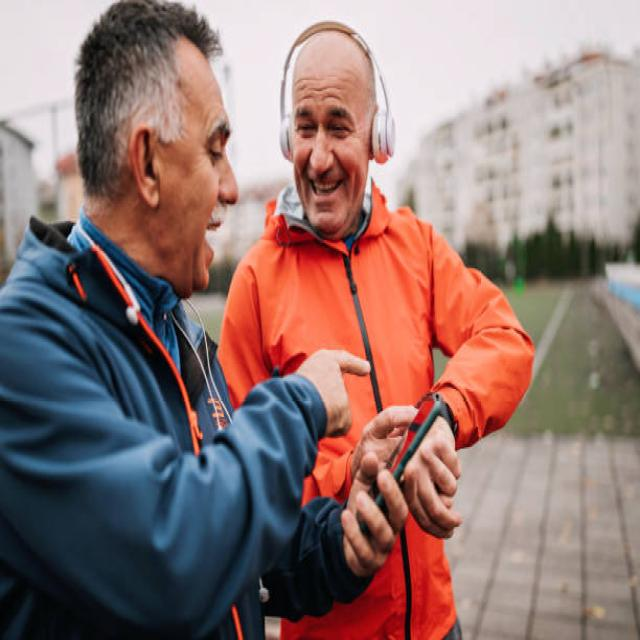Headphone: (278, 15, 397, 167)
